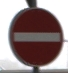No entry: (7, 7, 62, 67)
